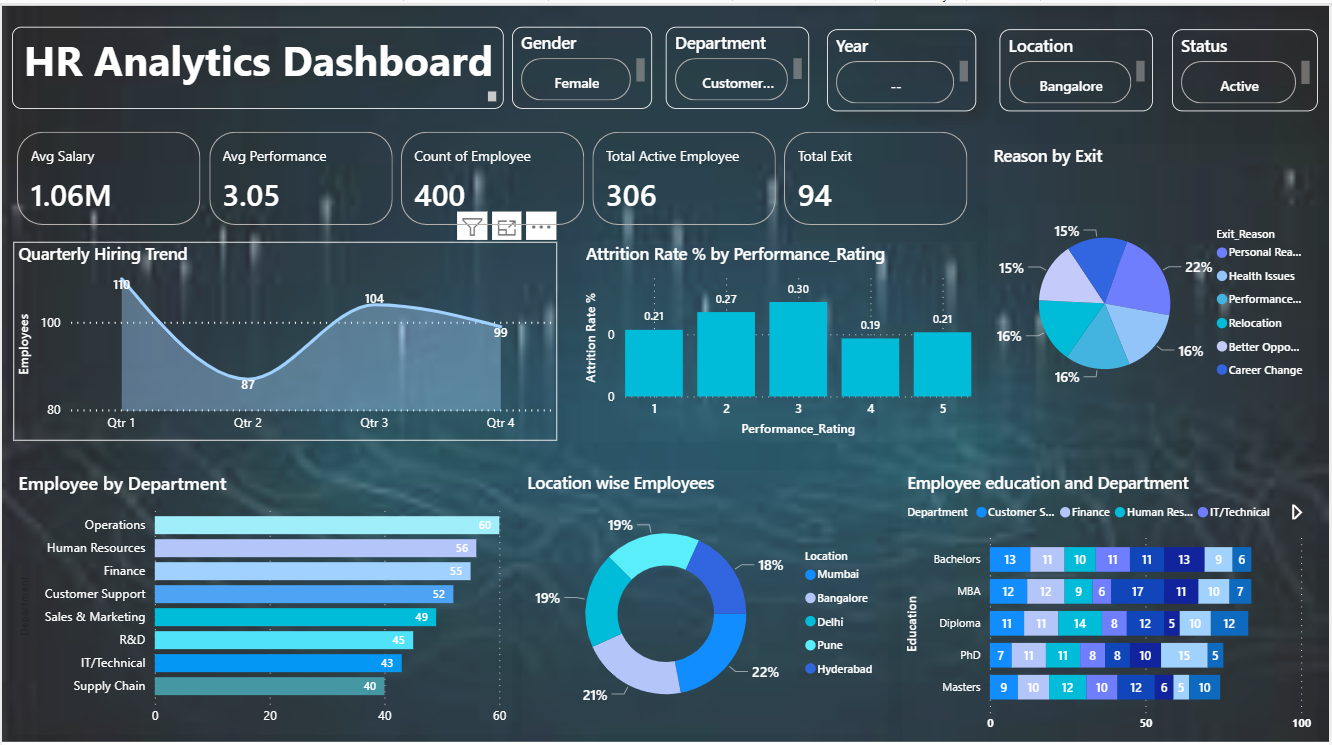

What the dashboard file says about the page in this screenshot:
{"tool":"powerbi","page":{"name":"Page 1","canvas":[1280,720],"ordinal":0},"visuals":[{"type":"barChart","title":"Employee by Department","fields":{"Category":["Employee_Data.Department"],"Y":["KPI.Count of Employee"]},"box":[11.2,450.5,481.2,255.2],"z":0},{"type":"donutChart","title":"Location wise Employees","fields":{"Y":["CountNonNull(Employee_Data.Emp_ID)"],"Category":["Employee_Data.Location"]},"box":[502.1,450.5,352.8,255.2],"z":1000},{"type":"barChart","title":"Employee education and Department ","fields":{"Series":["Employee_Data.Department"],"Category":["Employee_Data.Education"],"Y":["CountNonNull(Employee_Data.Education)"]},"box":[868.9,450.5,400.3,260.8],"z":2000},{"type":"areaChart","title":"Quarterly Hiring Trend","fields":{"Category":["Employee_Data.Joining_Date.Variation.Date Hierarchy.Quarter"],"Y":["CountNonNull(Employee_Data.Emp_ID)"]},"box":[11.2,230.1,524.4,192.5],"z":3000},{"type":"cardVisual","fields":{"Data":["KPI.Avg Salary","KPI.Avg Performance","KPI.Count of Employee","KPI.Total Active Employee","KPI.Total Exit"]},"box":[9.8,119.9,930.2,100.4],"z":4000},{"type":"pieChart","title":"Reason by Exit","fields":{"Category":["Employee_Data.Exit_Reason"],"Y":["CountNonNull(Employee_Data.Exit_Reason)"]},"box":[951.1,136.7,318,285.9],"z":5000},{"type":"clusteredColumnChart","fields":{"Category":["Employee_Data.Performance_Rating"],"Y":["KPI.Attrition Rate %"]},"box":[557.9,230.1,382.1,192.5],"z":6000},{"type":"textbox","title":"HR Analytics Dashboard","box":[9.8,22.3,474.2,79.5],"z":7000},{"type":"advancedSlicerVisual","fields":{"Values":["Employee_Data.Gender"]},"box":[492.3,22.3,135.3,79.5],"z":8000},{"type":"advancedSlicerVisual","fields":{"Values":["Employee_Data.Department"]},"box":[640.1,22.3,138.1,79.5],"z":9000},{"type":"advancedSlicerVisual","fields":{"Values":["Employee_Data.Exit_Date.Variation.Date Hierarchy.Year"]},"box":[796.3,25.1,143.6,79.5],"z":10000},{"type":"advancedSlicerVisual","fields":{"Values":["Employee_Data.Location"]},"box":[962.3,25.1,147.8,79.5],"z":11000},{"type":"advancedSlicerVisual","fields":{"Values":["Employee_Data.Status"]},"box":[1128.3,25.1,140.9,79.5],"z":12000}]}

Visuals, with their boxes in screenshot pixels (x1, y1, x2, y2), scaled from the page's 1280x720 canvas onto the 1332x745 screenshot:
"Employee by Department" barChart: BBox(12, 466, 512, 730)
"Location wise Employees" donutChart: BBox(522, 466, 890, 730)
"Employee education and Department " barChart: BBox(904, 466, 1321, 736)
"Quarterly Hiring Trend" areaChart: BBox(12, 238, 557, 437)
cardVisual - KPI.Avg Salary x KPI.Avg Performance: BBox(10, 124, 978, 228)
"Reason by Exit" pieChart: BBox(990, 141, 1321, 437)
clusteredColumnChart - Employee_Data.Performance_Rating x KPI.Attrition Rate %: BBox(581, 238, 978, 437)
"HR Analytics Dashboard" textbox: BBox(10, 23, 504, 105)
advancedSlicerVisual - Employee_Data.Gender: BBox(512, 23, 653, 105)
advancedSlicerVisual - Employee_Data.Department: BBox(666, 23, 810, 105)
advancedSlicerVisual - Employee_Data.Exit_Date.Variation.Date Hierarchy.Year: BBox(829, 26, 978, 108)
advancedSlicerVisual - Employee_Data.Location: BBox(1001, 26, 1155, 108)
advancedSlicerVisual - Employee_Data.Status: BBox(1174, 26, 1321, 108)
